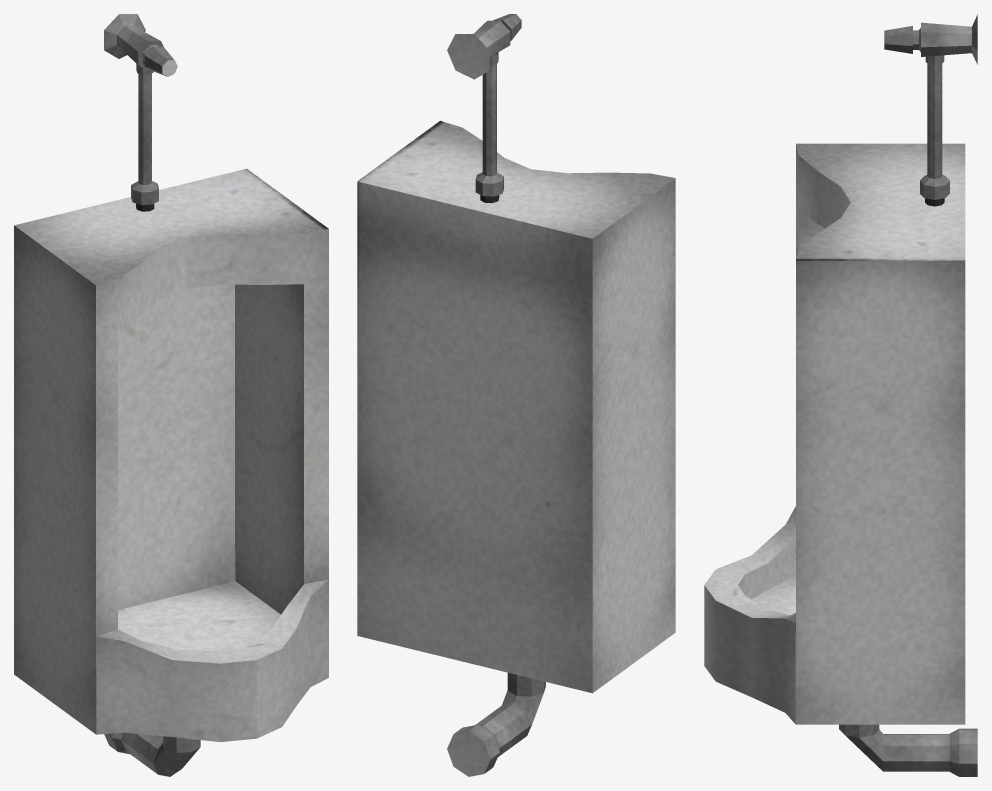
The model's file is Tol_Stand_M.fbx.
3 renders of one model, left to right at view 1: azimuth 30°, elevation 25°; view 2: azimuth 150°, elevation 25°; view 3: azimuth 270°, elevation 25°, orthographic. The views are drawn at different scales.
Parts seen in each view (by area): view 1: pCylinder4; view 2: pCylinder4; view 3: pCylinder4.
Boxes of the visible parts, left/top/right/bottom form: pCylinder4: left=14, top=14, right=328, bottom=776; pCylinder4: left=357, top=14, right=675, bottom=776; pCylinder4: left=704, top=14, right=977, bottom=776.
Size of the model in its own units: 0.9714 by 2.93 by 0.9574.
Materials: 1 (1 with a texture image).
